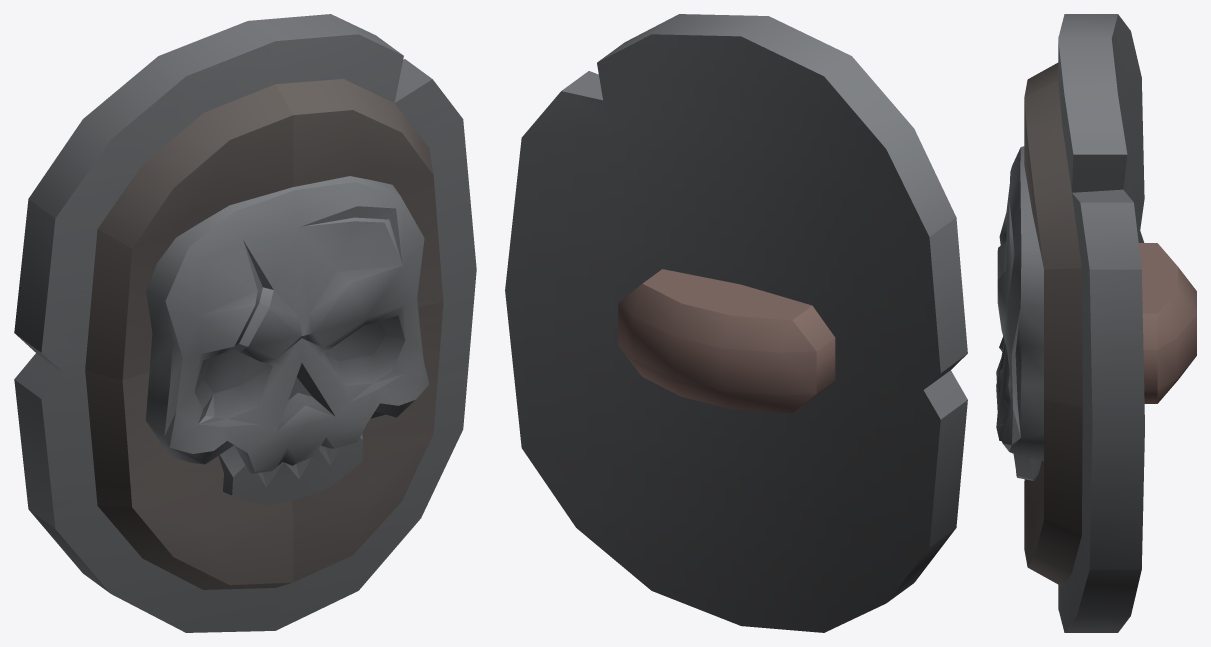
The model's file is Skeleton_Shield_Large_A.glb.
3 views of the same model, side by side, from view 1: azimuth 30°, elevation 25°; view 2: azimuth 150°, elevation 25°; view 3: azimuth 270°, elevation 25° (orthographic). The views are drawn at different scales.
Parts seen in each view (by area): view 1: Skeleton_Shield_Large_A; view 2: Skeleton_Shield_Large_A; view 3: Skeleton_Shield_Large_A.
Boxes of the visible parts, bbox=[...] form: Skeleton_Shield_Large_A: bbox=[14, 14, 476, 632]; Skeleton_Shield_Large_A: bbox=[505, 14, 967, 632]; Skeleton_Shield_Large_A: bbox=[996, 14, 1196, 632].
Size of the model in its own units: 0.8771 by 1.13 by 0.3625.
1 material, 1 textured.
